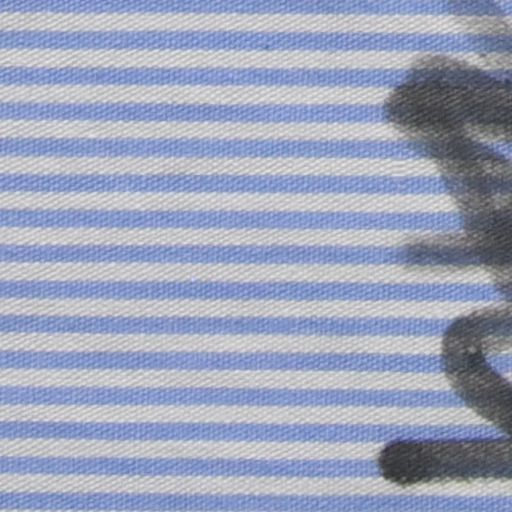defect: (386, 1, 512, 483)
